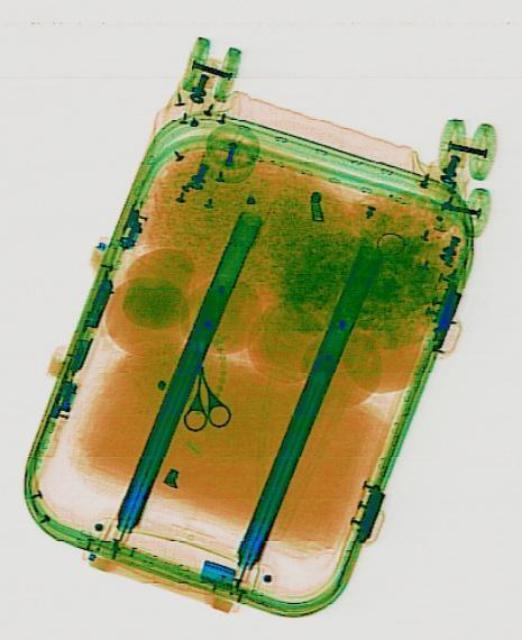Scissors: (175, 360, 229, 430)
